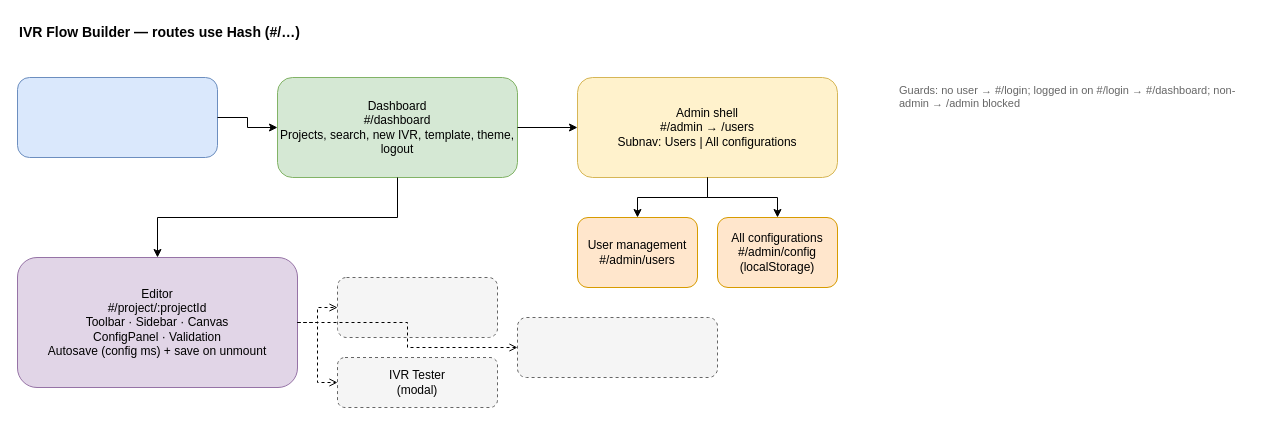
Image size: 1275x425. Some labels were removed from this diagram. Here are the shapes that lost their labels. From the top down, the centre of each, then its label:
(x=117, y=117): Login #/login Submit → dashboard on success
(x=417, y=307): Mock API panel (overlay, not a route)
(x=617, y=347): Template gallery (modal — also on Dashboard)
